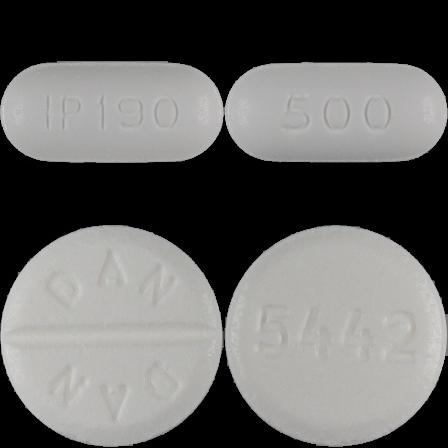10544-044: (0, 0, 224, 224)
